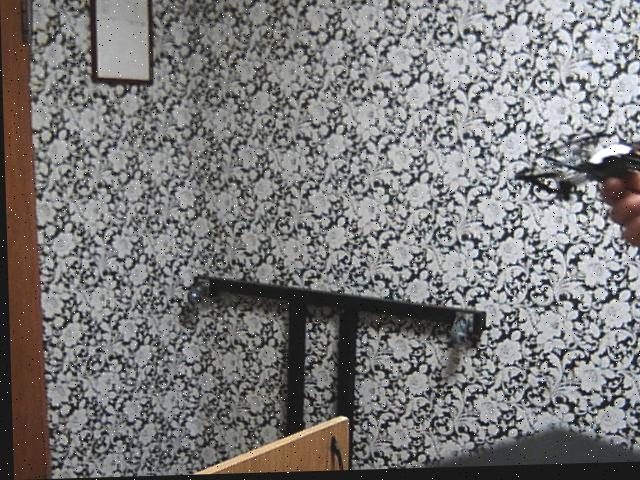drone: (512, 120, 640, 218)
